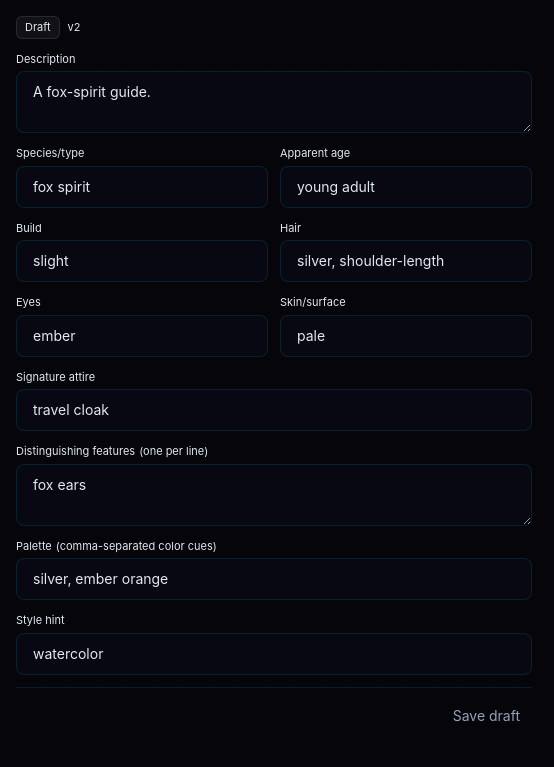
Test case: VisualIdentityEditor › saves edits as a new draft version
Replace the text in the field labelled "Hair" with "black, cropped": (406, 261) x1=280 y1=240 x2=532 y2=282
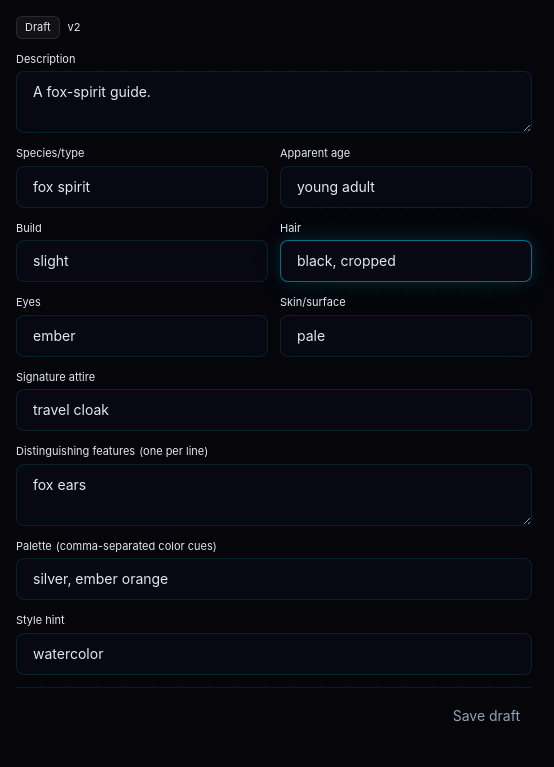
Click the button "Save draft": (486, 716) x1=441 y1=700 x2=532 y2=732
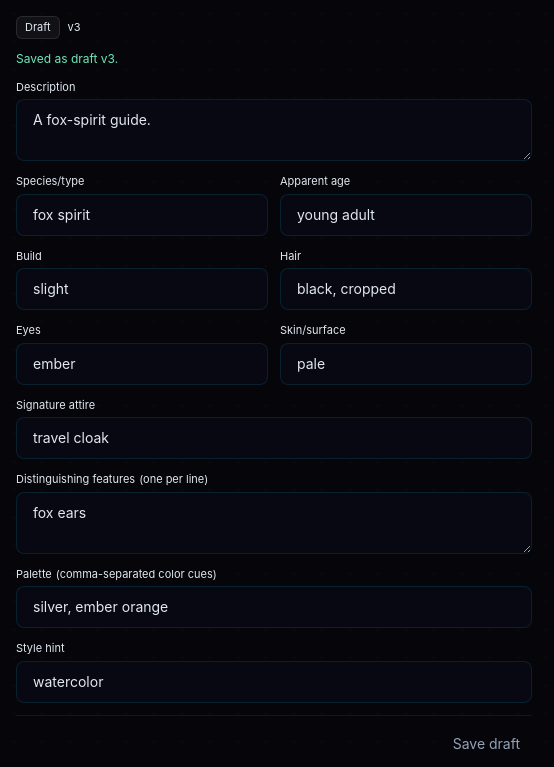
expect the text "Saved as draft v3." is shown: met, box x1=16 y1=50 x2=118 y2=66
